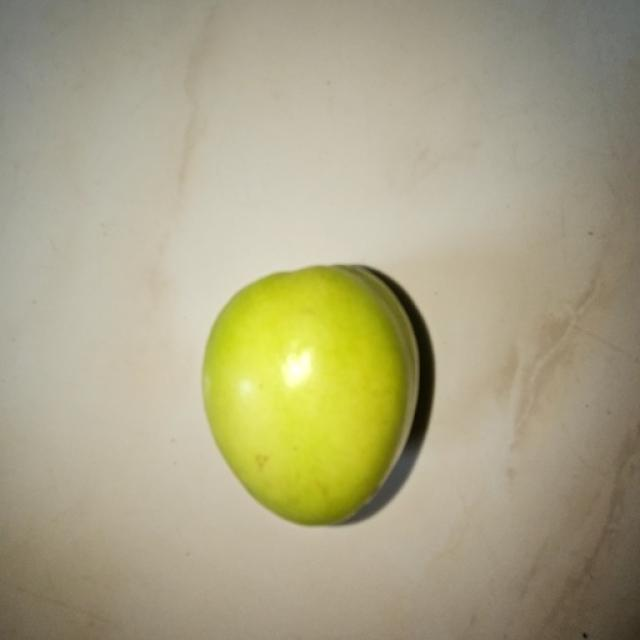Red: (200, 262, 421, 527)
